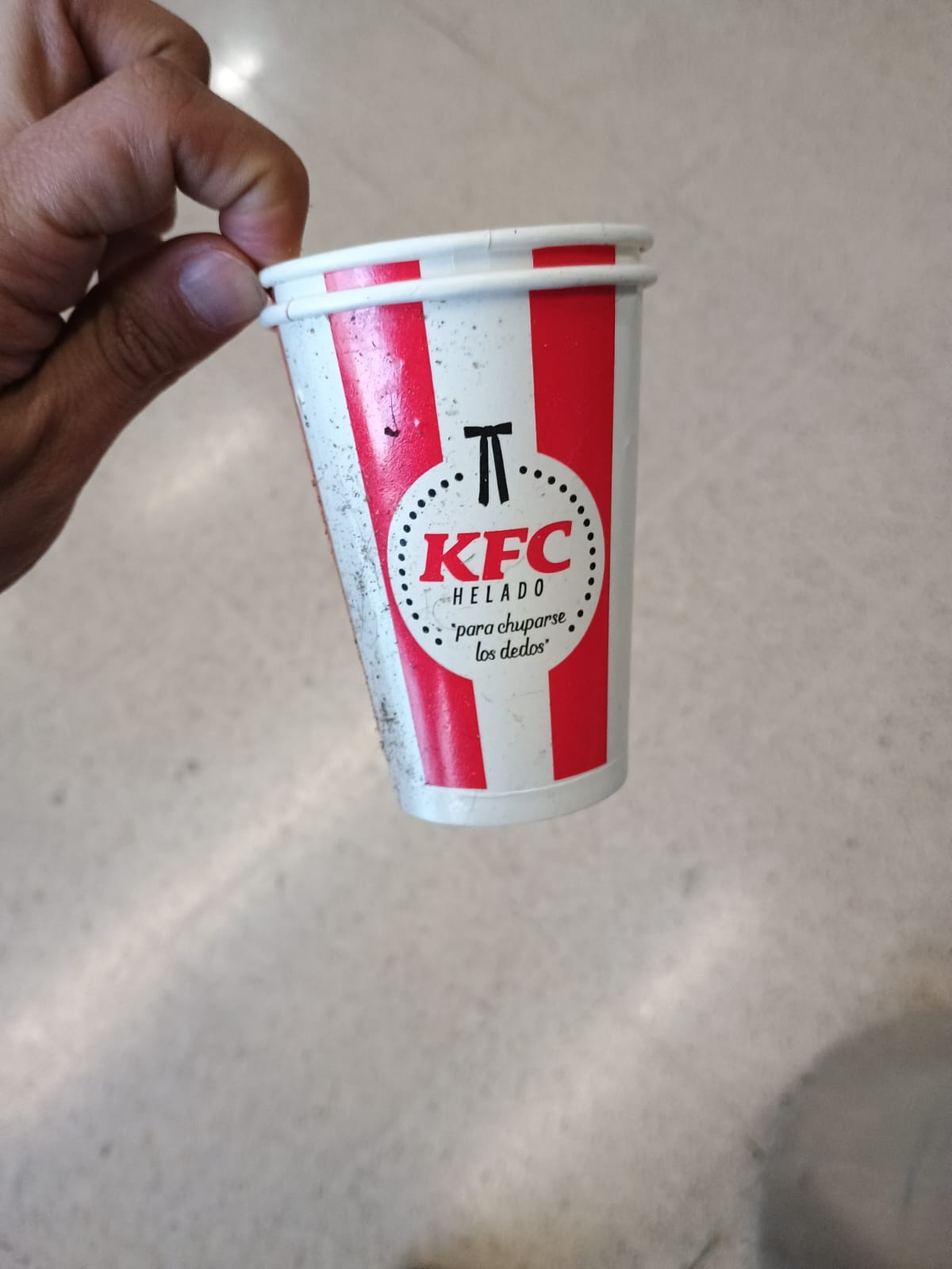Carton: (255, 223, 657, 830)
